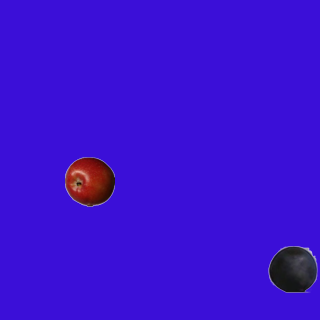Apple Braeburn: (64, 156, 114, 206)
Grape Blue: (267, 243, 317, 293)
